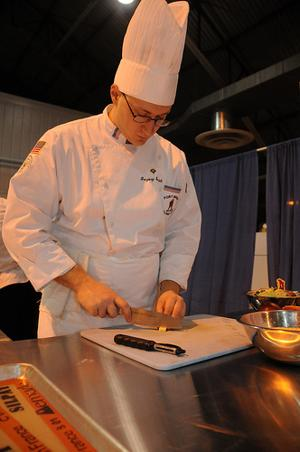person: (4, 3, 202, 346)
